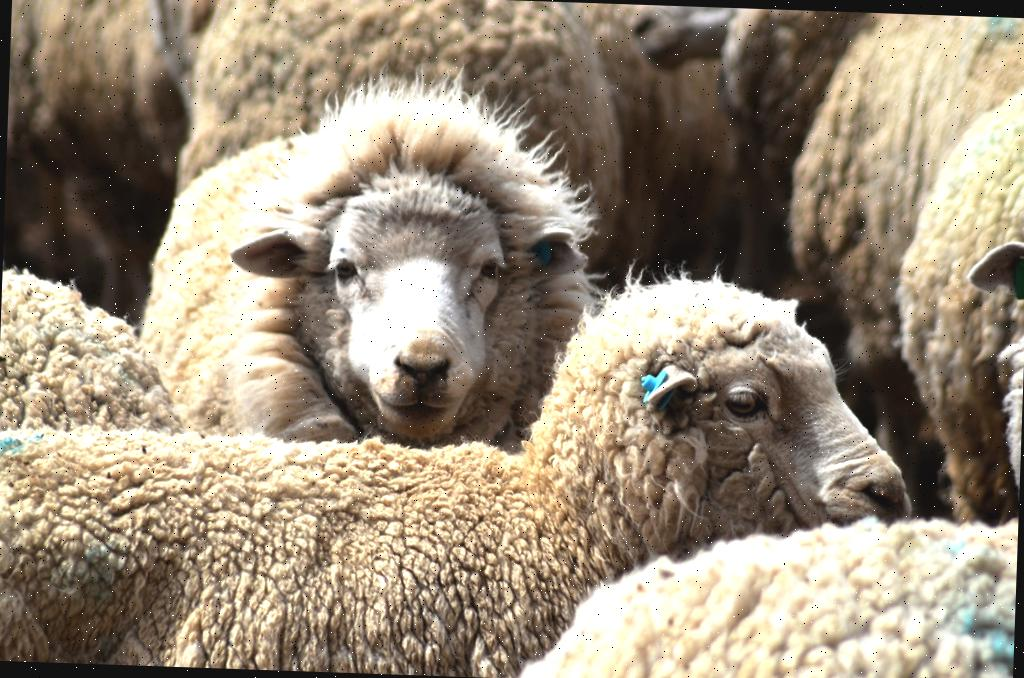Sheep: (0, 242, 918, 678), (146, 55, 600, 454), (701, 9, 1024, 518), (517, 474, 1019, 678), (1, 0, 194, 327), (552, 3, 748, 297), (0, 259, 186, 442)
